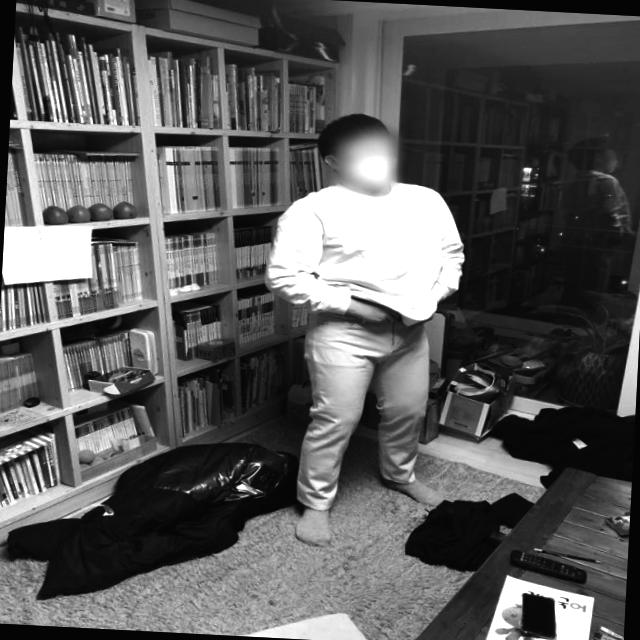cottonpants: (294, 309, 429, 515)
mtm: (266, 178, 467, 329)
